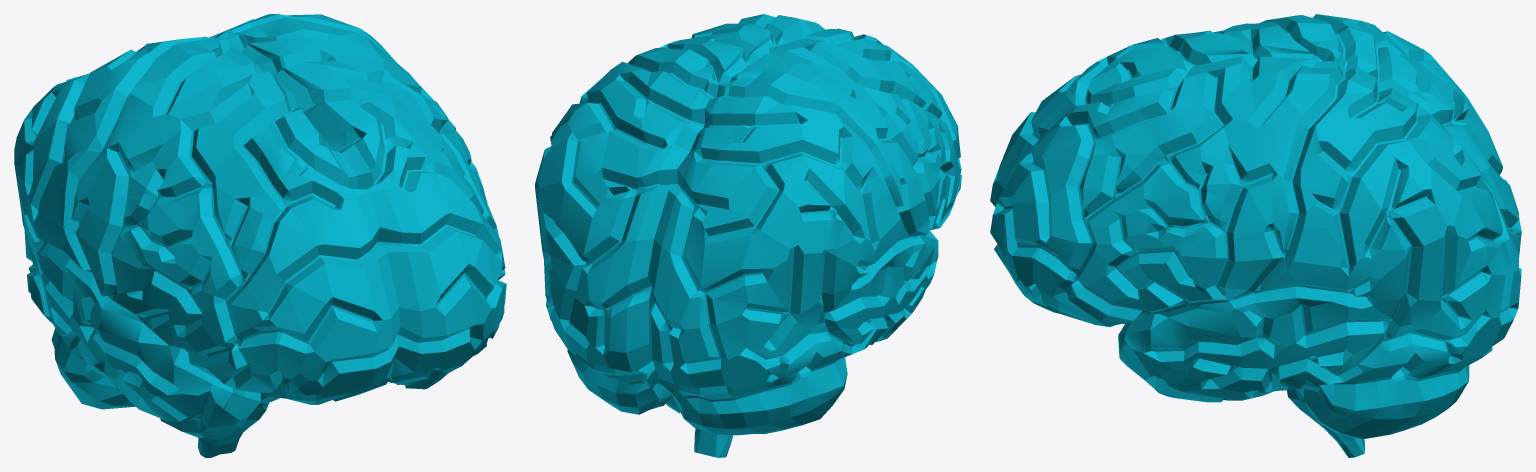
File: Brain.dae
The picture shows the model from 3 angles, left to right: view 1: azimuth 30°, elevation 25°; view 2: azimuth 150°, elevation 25°; view 3: azimuth 270°, elevation 25°; orthographic projection. The views are drawn at different scales.
Visible parts, largest first — view 1: Brain; view 2: Brain; view 3: Brain.
Part boxes in pixels (x1=…): Brain: x1=14, y1=14, x2=506, y2=457; Brain: x1=535, y1=14, x2=961, y2=457; Brain: x1=990, y1=14, x2=1521, y2=457.
Bounding box in the file's own units: 5.09 × 5.61 × 6.7.
